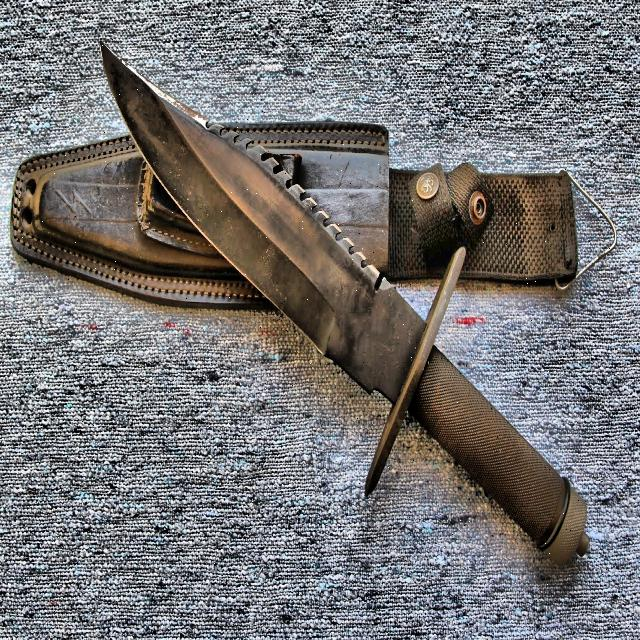knife: (101, 41, 591, 568)
